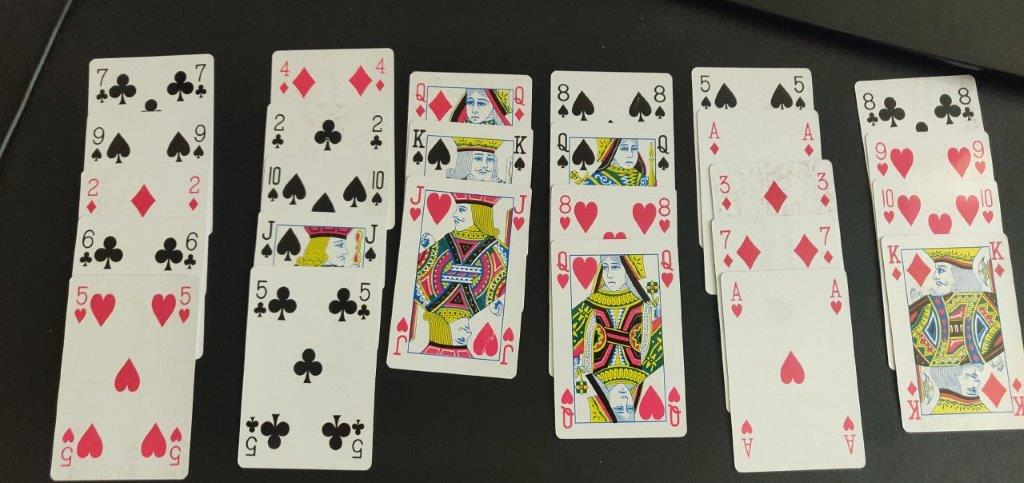10H: (877, 184, 902, 227), (976, 185, 1000, 227)
10S: (265, 159, 283, 203), (369, 165, 387, 207)
2C: (368, 113, 385, 154), (270, 111, 286, 150)
2D: (83, 175, 100, 218), (186, 172, 202, 215)
3D: (814, 168, 835, 213), (714, 170, 734, 214)
4D: (275, 60, 292, 96), (374, 55, 386, 97)
5C: (355, 278, 373, 327), (252, 279, 267, 314)
5H: (71, 282, 90, 327), (177, 282, 192, 327)
5S: (790, 69, 808, 112), (695, 70, 713, 110)
6C: (182, 227, 199, 272), (78, 227, 94, 268)
7C: (192, 62, 210, 101), (92, 66, 109, 104)
7D: (715, 225, 735, 271), (816, 224, 837, 267)
8C: (955, 83, 980, 125), (859, 90, 882, 129)
8H: (555, 190, 575, 233), (655, 192, 673, 239)
8S: (650, 82, 670, 125), (555, 79, 573, 119)
9H: (871, 139, 892, 182), (969, 137, 991, 176)
9S: (85, 123, 105, 166), (190, 120, 206, 161)
AD: (706, 116, 723, 161), (800, 119, 818, 158)
AH: (728, 273, 748, 324), (825, 275, 845, 317)
JH: (407, 179, 426, 226), (512, 191, 528, 235)
JS: (259, 216, 276, 260), (364, 219, 380, 262)
KD: (883, 238, 907, 286), (986, 235, 1009, 279)
KS: (510, 132, 531, 176), (410, 123, 426, 171)
QD: (512, 80, 529, 126), (412, 78, 429, 119)
QH: (553, 248, 574, 295), (657, 246, 678, 292)
QS: (653, 129, 673, 174), (554, 127, 573, 171)
